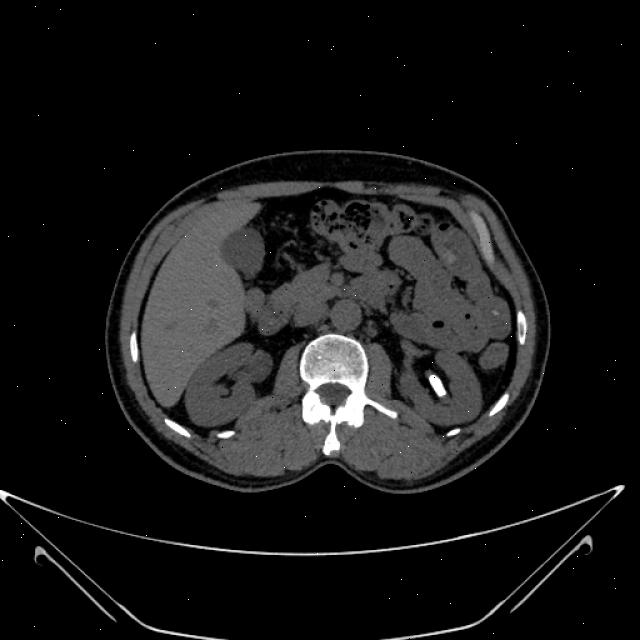kidneystone: (429, 374, 446, 397)
